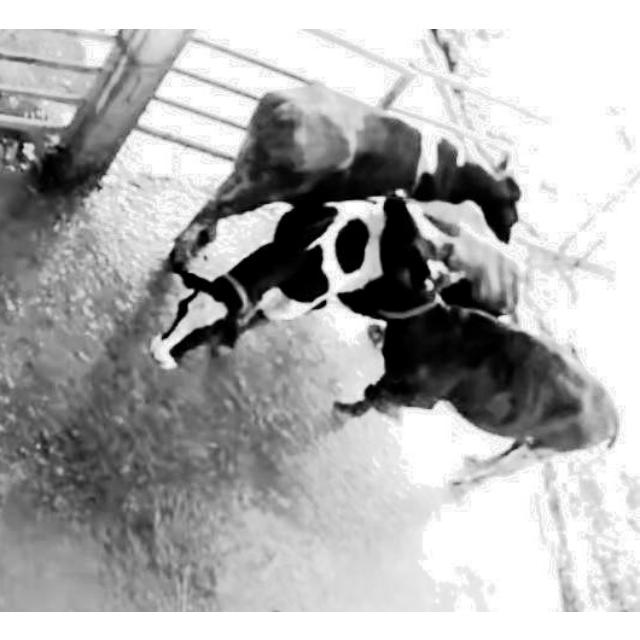propping: (364, 175, 461, 342)
